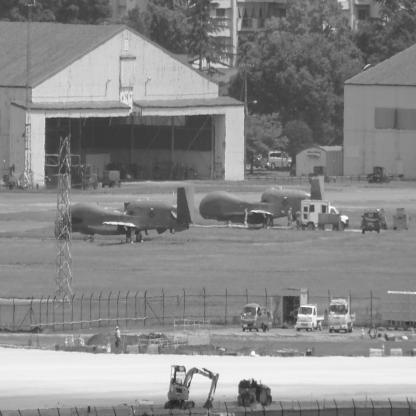RQ4: (64, 186, 197, 245), (200, 176, 326, 230)
